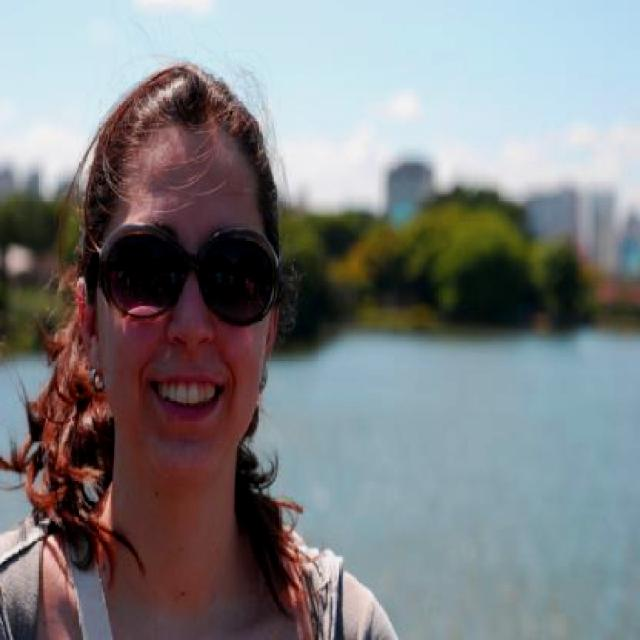face_nomask: (107, 226, 273, 428)
glasses: (95, 211, 276, 324)
head_nohelmet: (98, 62, 282, 162)
person: (1, 41, 368, 640)
